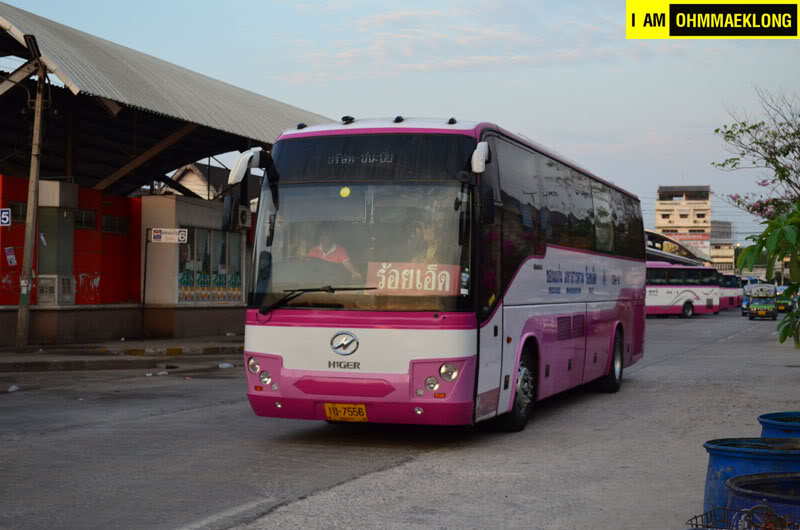bus: (242, 116, 648, 434)
